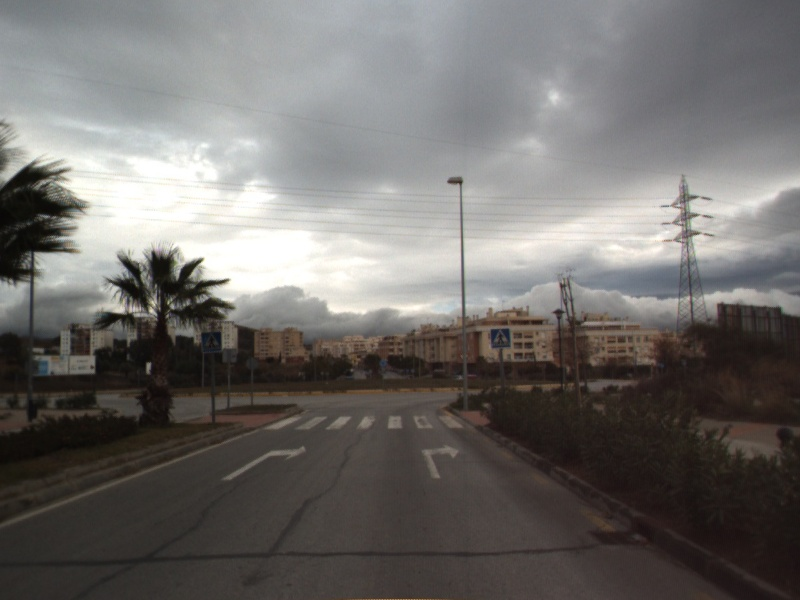RIGHT: (219, 443, 308, 482), (420, 442, 462, 480)
